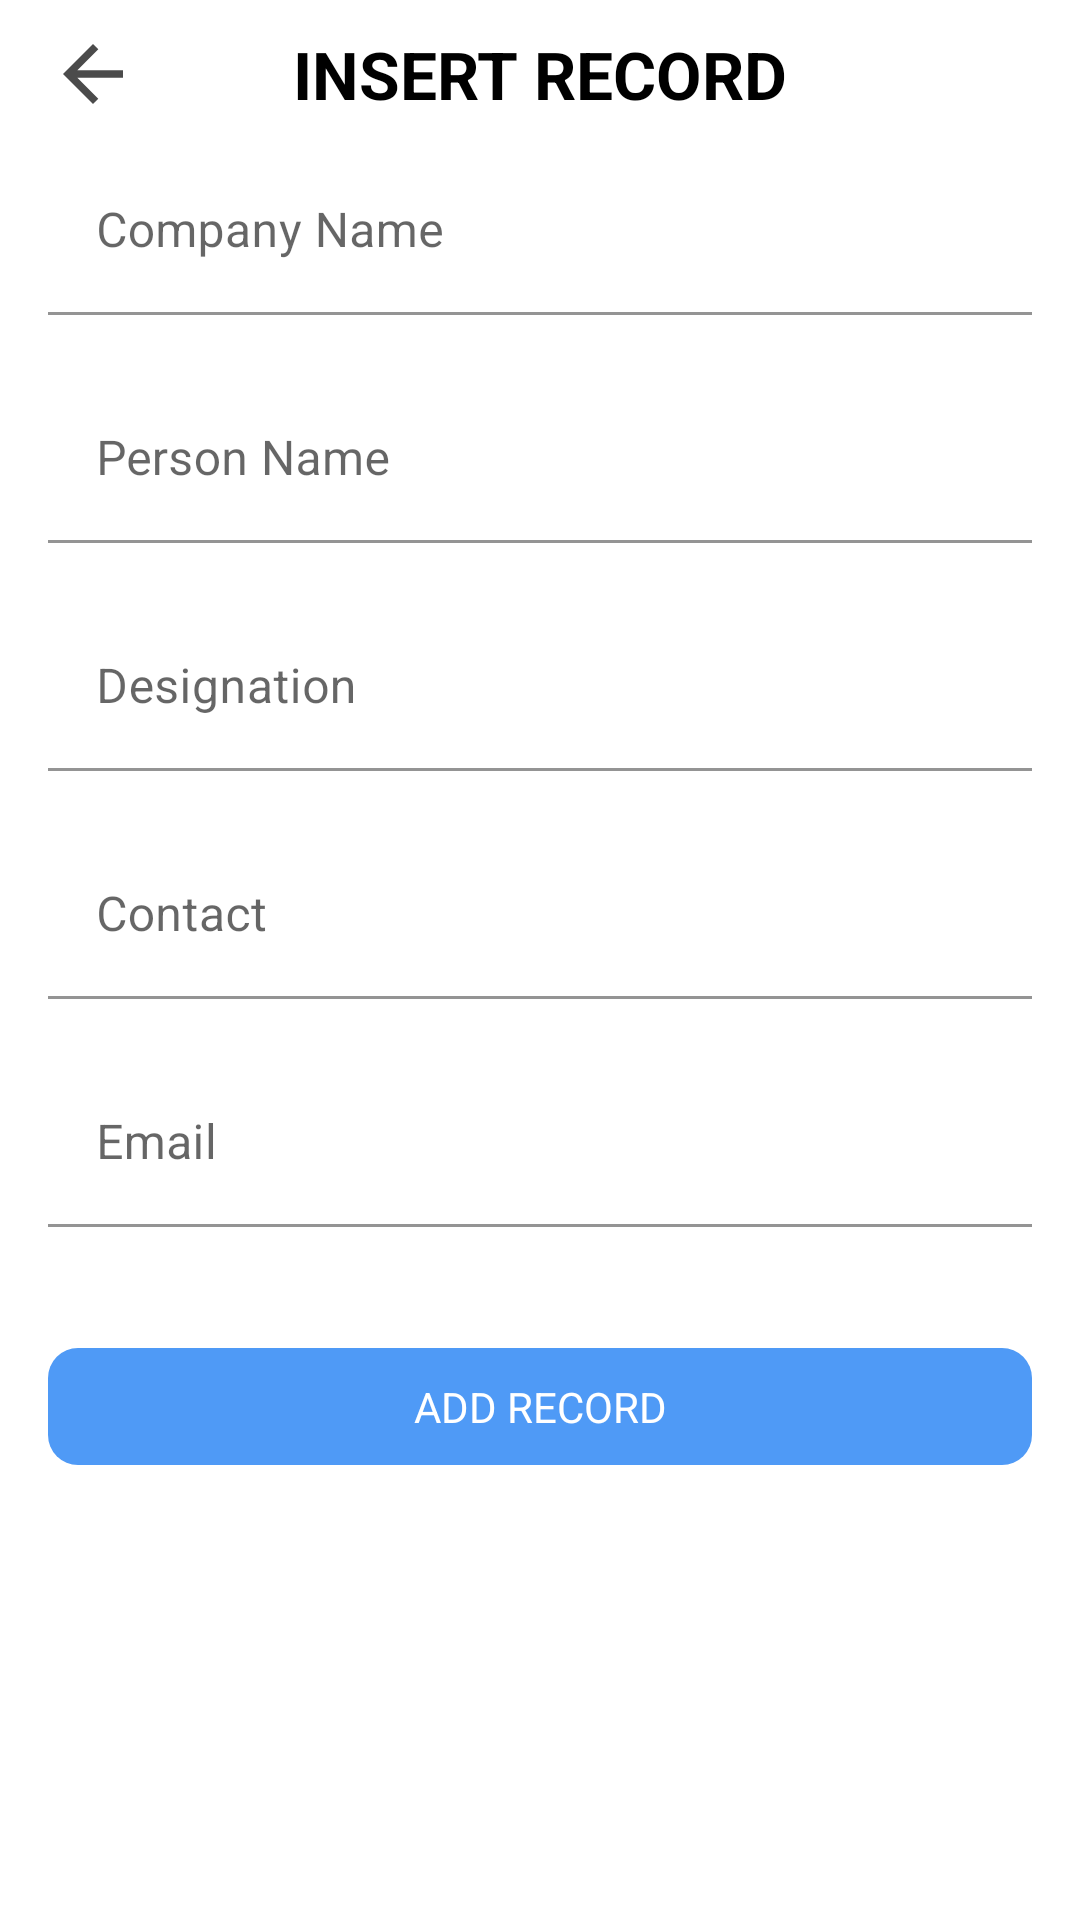

Named icons in this screenshot (1080×1920) and their centers, point (x, y):
arrow back: point (93, 74)
